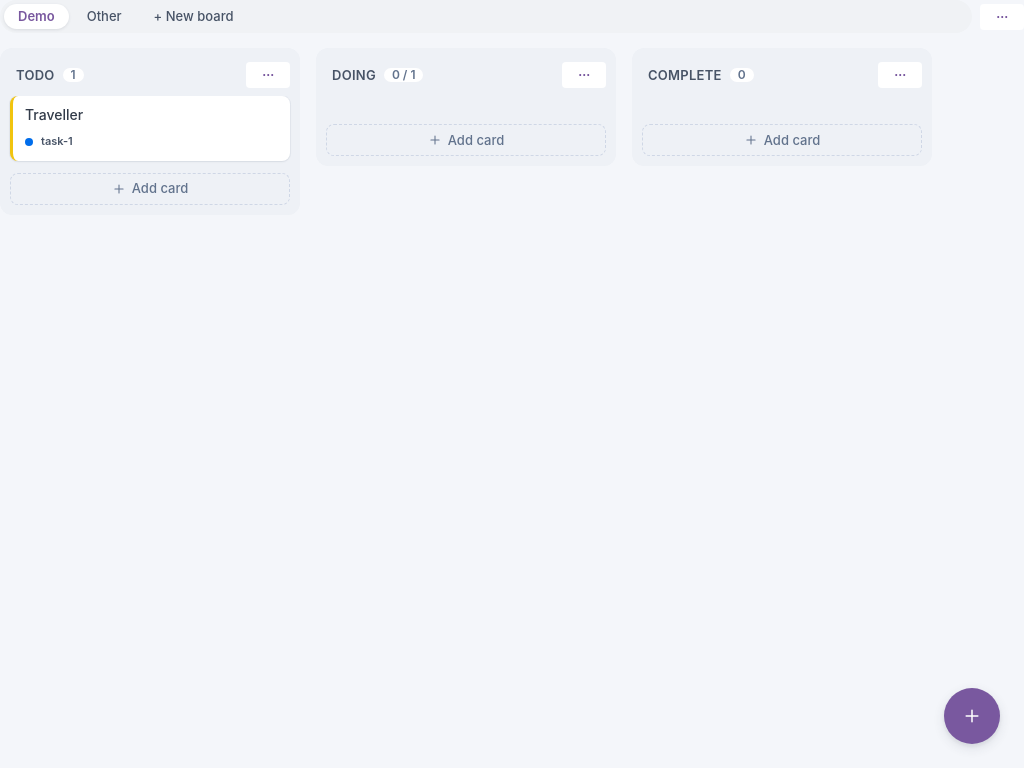
Test: KanbanBoard › moves a card to another board from the modal
Click the list item with aria-label "Traveller (medium)" at (150, 128), box [10, 96, 290, 161]
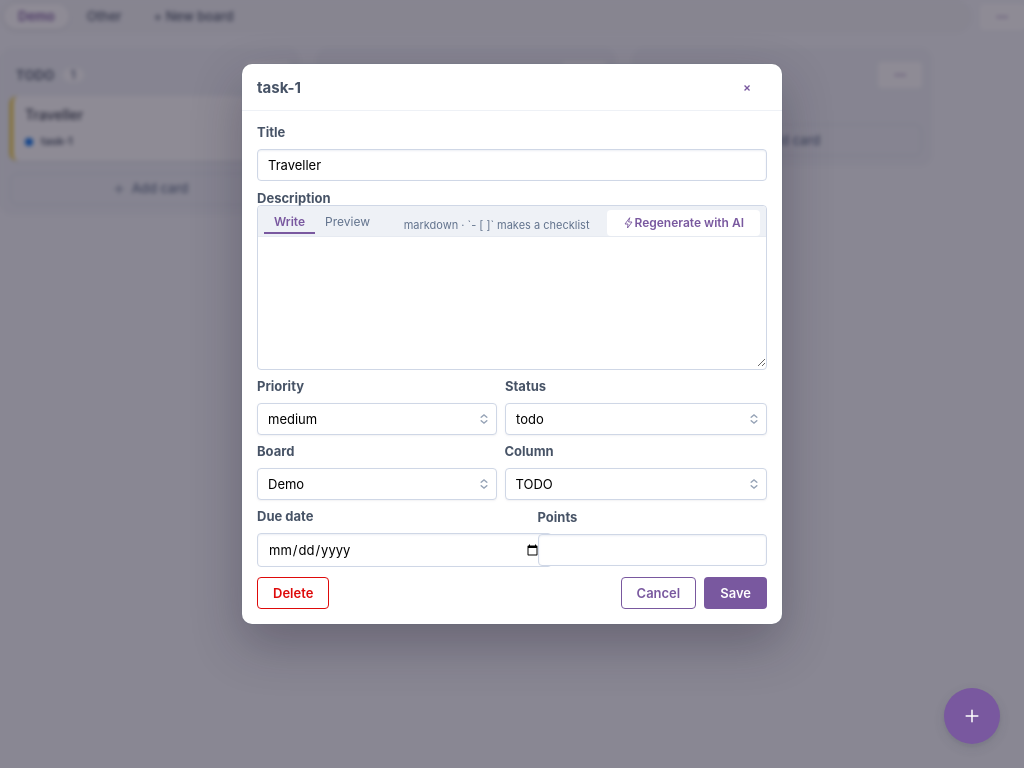
Select "Other" in the dropdown labelled "Board" at (377, 484), box [257, 468, 496, 500]
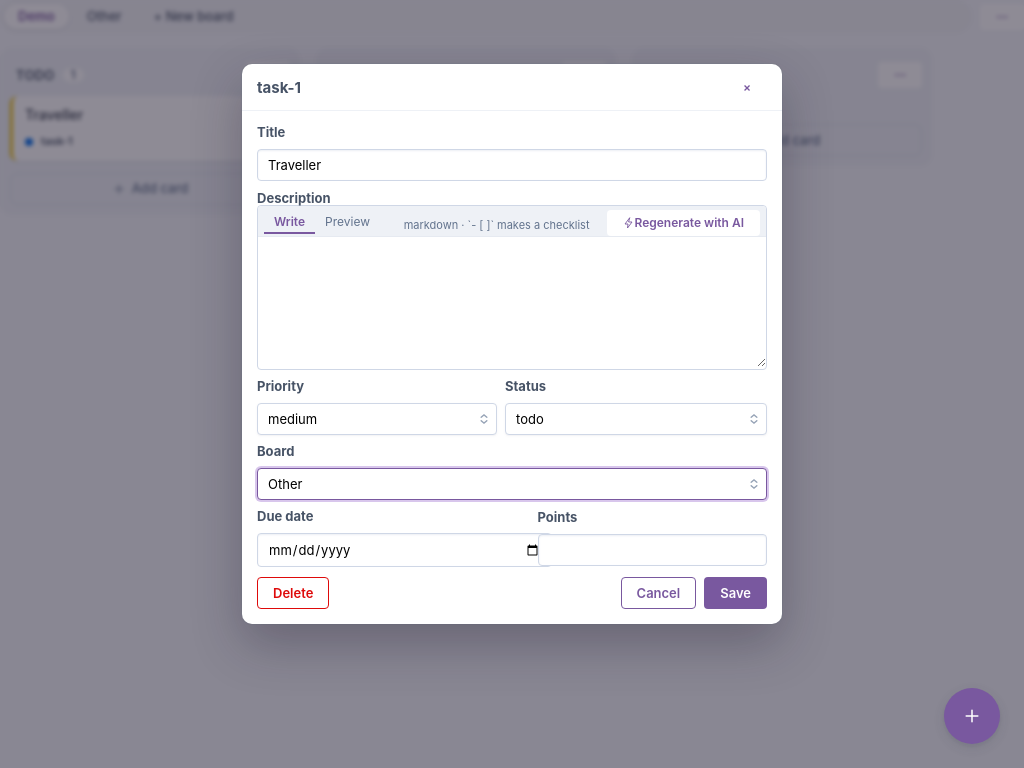
Expected: the label labelled "Column" is gone
Click the button "Save" at (736, 593), box [704, 577, 767, 609]
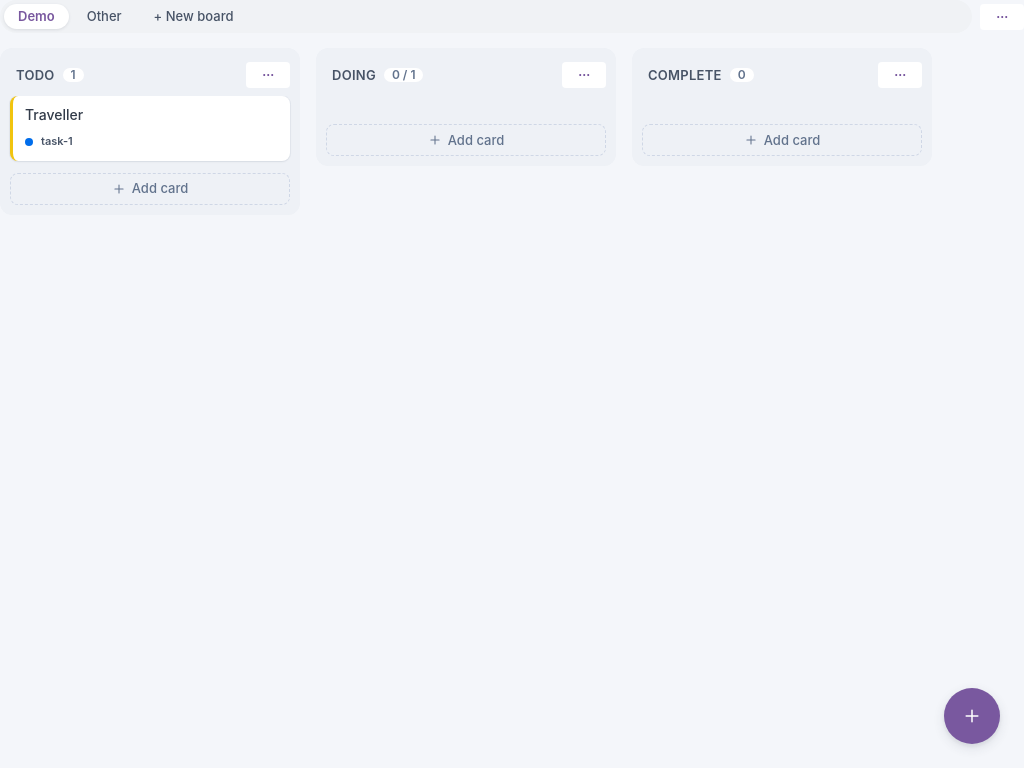
Expected: the dialog is gone
